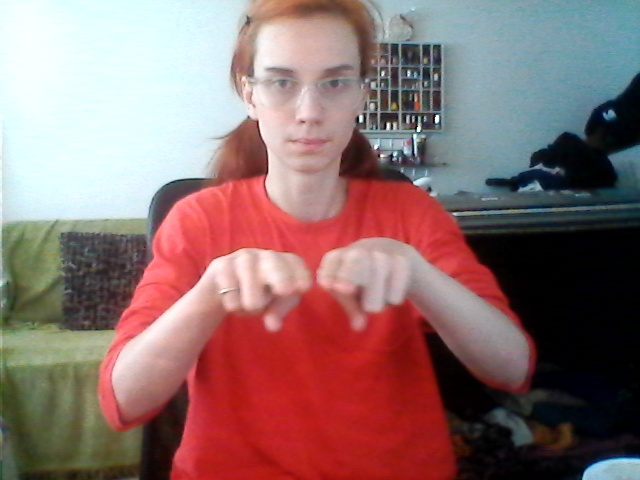brat: (203, 227, 426, 344)
